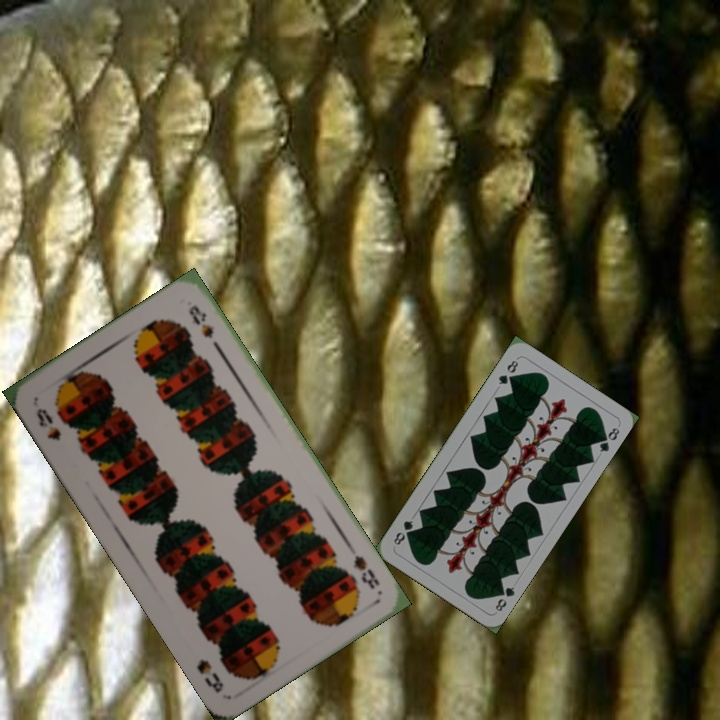G8: (494, 356, 521, 387), (491, 582, 517, 614)
S8: (349, 551, 382, 592), (32, 404, 64, 443)
